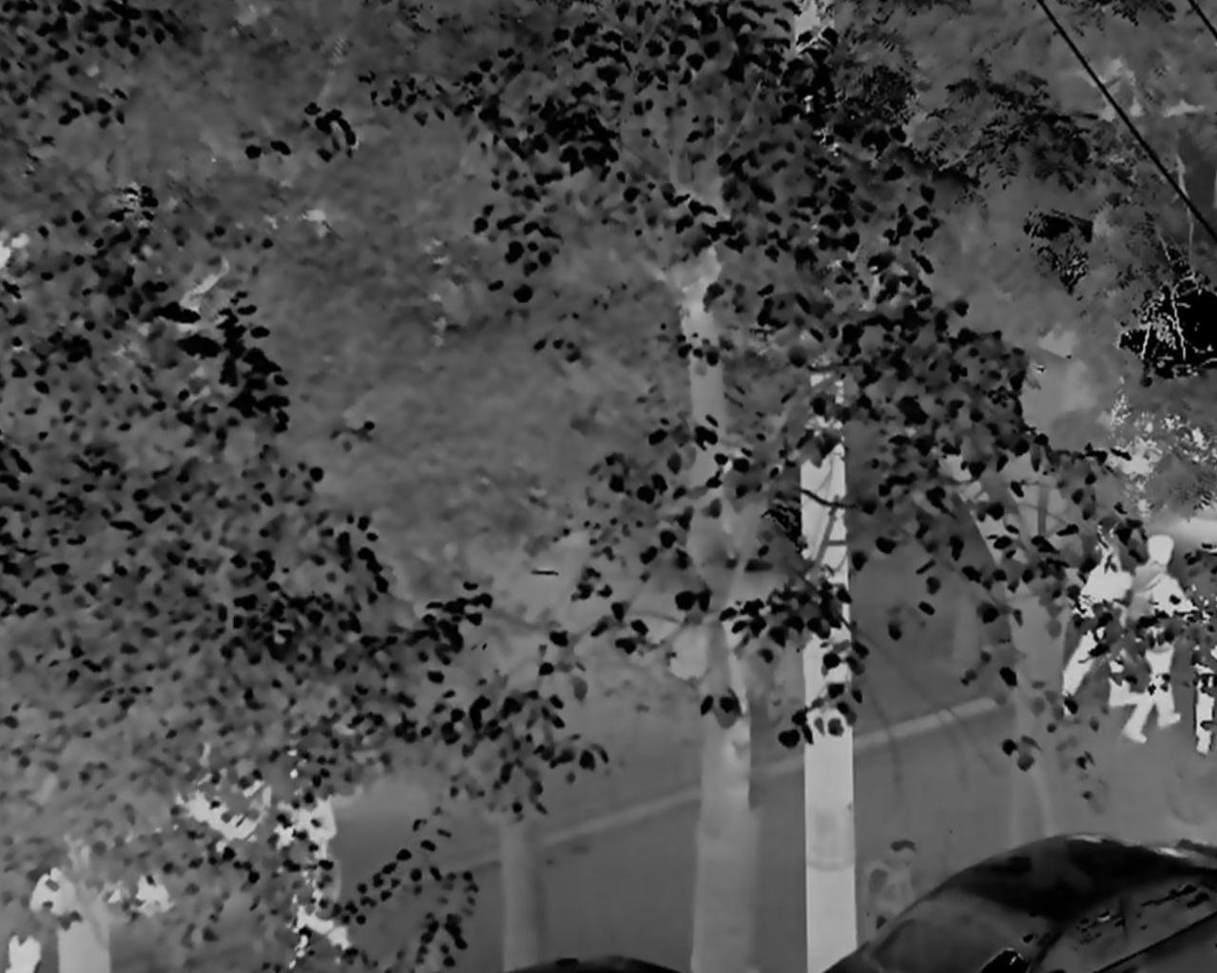person: (1117, 530, 1201, 742), (1061, 523, 1140, 710)
